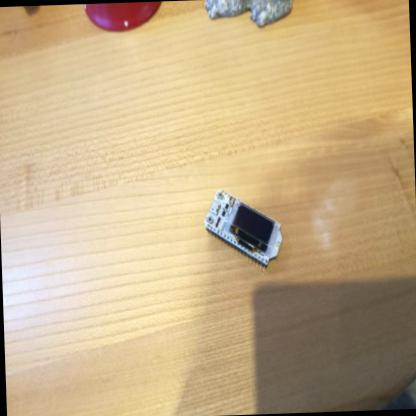Heltec_ESP32_Lora: (203, 186, 286, 277)
